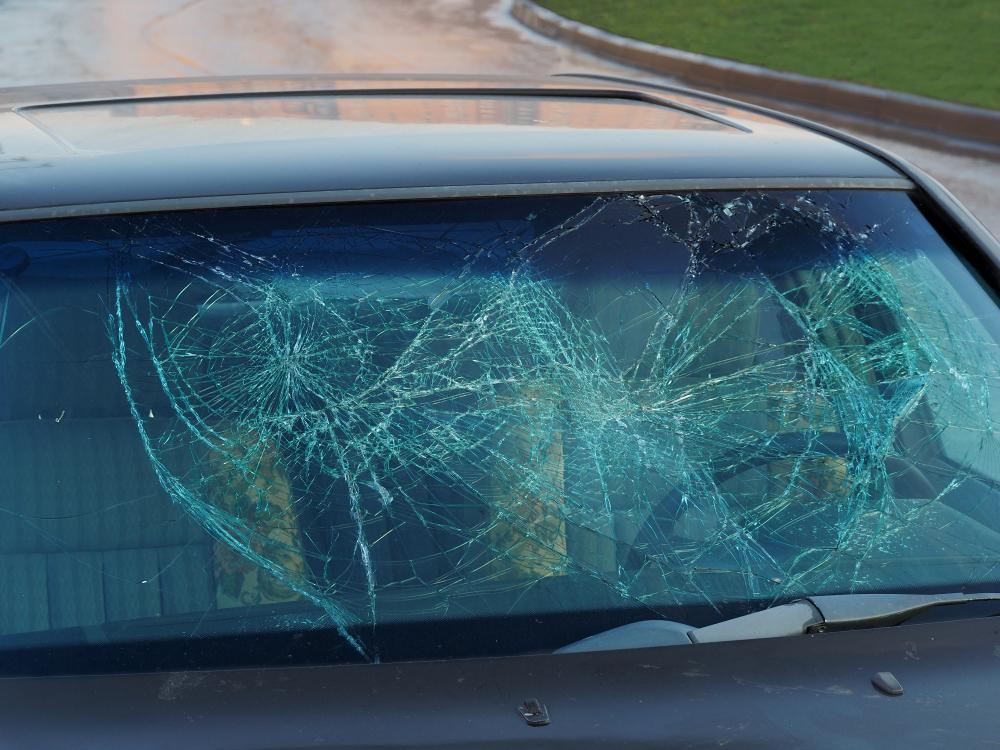glass shatter: (0, 188, 1000, 676)
